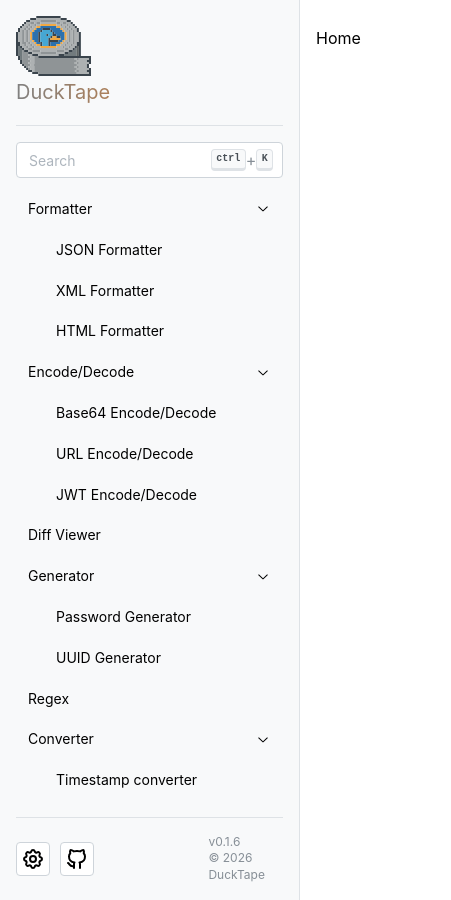
Test: ApplicationLayout Settings Persistence › saves the last visited page to localStorage
The width and height of the screenshot is (451, 900).
Click the link "JSON Formatter". click: (109, 249)
box: [56,241,162,258]
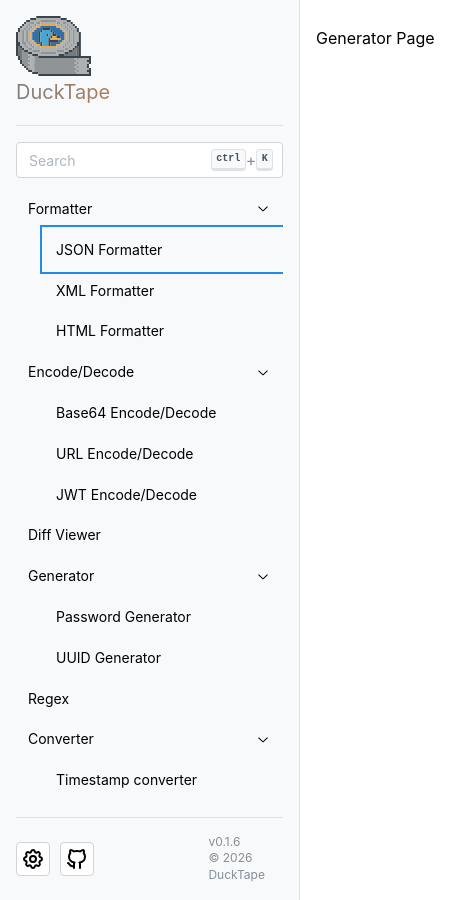
Now the text "Generator Page" is shown, box [316,28,435,48]
